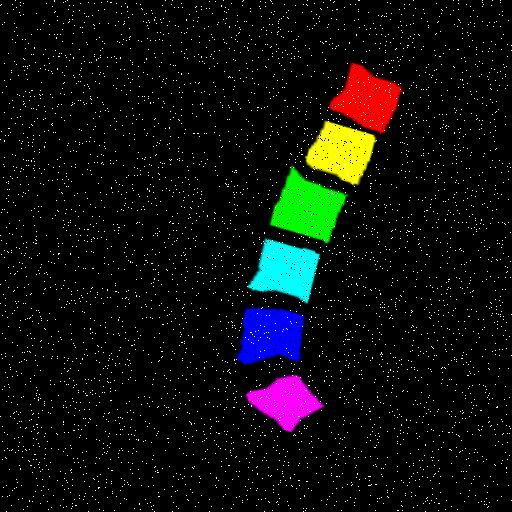L1: (326, 68, 398, 138)
L2: (302, 125, 372, 189)
L3: (265, 170, 340, 246)
L4: (241, 242, 313, 308)
L5: (229, 314, 297, 367)
S1: (237, 379, 313, 436)
